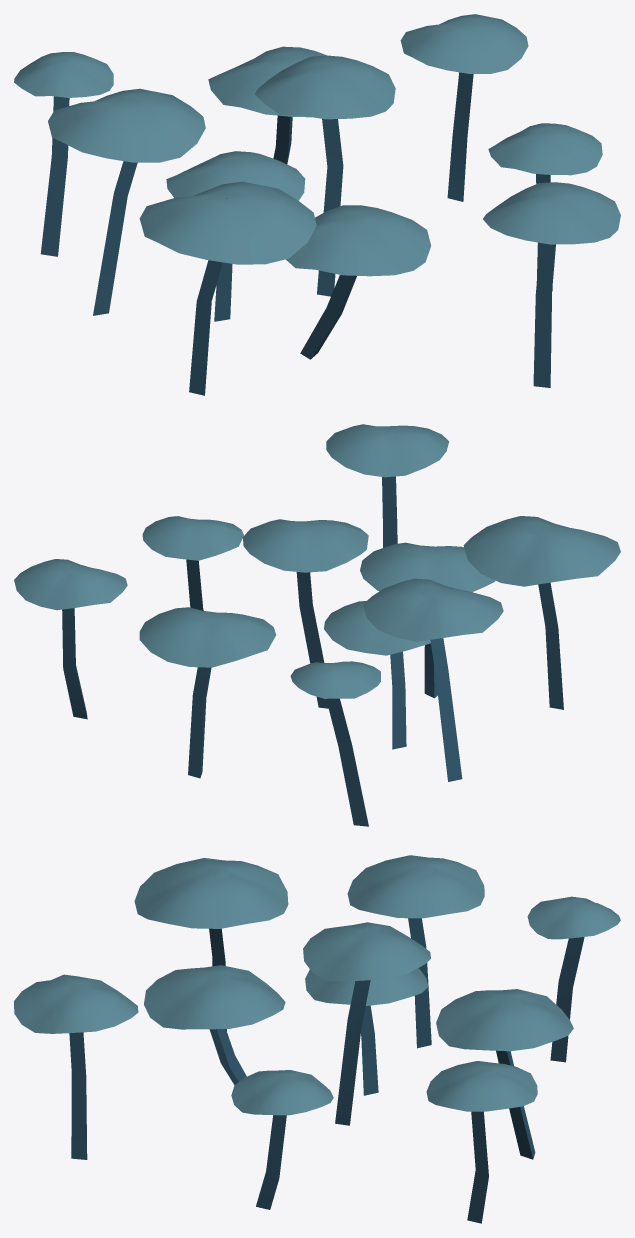
Rendered from coral_mushroom_A_light.fbx.
3 renders of one model, top to bottom at view 1: azimuth 30°, elevation 25°; view 2: azimuth 150°, elevation 25°; view 3: azimuth 270°, elevation 25°, orthographic. The views are drawn at different scales.
Parts seen in each view (by area): view 1: coral_mushroom_A_A, coral_mushroom_A_C, coral_mushroom_A_E, coral_mushroom_A_F, coral_mushroom_A_D, coral_mushroom_A_I, coral_mushroom_A_J, coral_mushroom_A_G, coral_mushroom_A_K, coral_mushroom_A_B; view 2: coral_mushroom_A_A, coral_mushroom_A_C, coral_mushroom_A_B, coral_mushroom_A_D, coral_mushroom_A_F, coral_mushroom_A_I, coral_mushroom_A_E, coral_mushroom_A_J, coral_mushroom_A_K, coral_mushroom_A_G; view 3: coral_mushroom_A_A, coral_mushroom_A_C, coral_mushroom_A_D, coral_mushroom_A_E, coral_mushroom_A_B, coral_mushroom_A_F, coral_mushroom_A_I, coral_mushroom_A_K, coral_mushroom_A_J, coral_mushroom_A_G.
Boxes of the visible parts, x1,y1,x2,y2 form: coral_mushroom_A_A: (139, 181, 316, 395); coral_mushroom_A_C: (48, 88, 205, 315); coral_mushroom_A_E: (286, 205, 431, 359); coral_mushroom_A_F: (483, 182, 620, 387); coral_mushroom_A_D: (255, 55, 395, 296); coral_mushroom_A_I: (400, 14, 528, 201); coral_mushroom_A_J: (14, 52, 113, 256); coral_mushroom_A_G: (166, 151, 305, 321); coral_mushroom_A_K: (488, 123, 602, 291); coral_mushroom_A_B: (208, 46, 326, 164); coral_mushroom_A_A: (463, 516, 620, 709); coral_mushroom_A_C: (363, 578, 503, 781); coral_mushroom_A_B: (139, 607, 275, 778); coral_mushroom_A_D: (243, 519, 368, 708); coral_mushroom_A_F: (326, 424, 449, 547); coral_mushroom_A_I: (14, 559, 127, 719); coral_mushroom_A_E: (360, 542, 495, 698); coral_mushroom_A_J: (290, 661, 380, 826); coral_mushroom_A_K: (142, 516, 243, 610); coral_mushroom_A_G: (324, 601, 430, 749); coral_mushroom_A_A: (134, 858, 288, 1031); coral_mushroom_A_C: (347, 855, 484, 1048); coral_mushroom_A_D: (303, 922, 430, 1125); coral_mushroom_A_E: (144, 965, 285, 1084); coral_mushroom_A_B: (436, 989, 573, 1159); coral_mushroom_A_F: (14, 974, 138, 1159); coral_mushroom_A_I: (426, 1061, 537, 1223); coral_mushroom_A_K: (231, 1070, 333, 1209); coral_mushroom_A_J: (527, 896, 620, 1062); coral_mushroom_A_G: (305, 968, 428, 1095).
Size of the model in its own units: 196 by 82.14 by 219.
